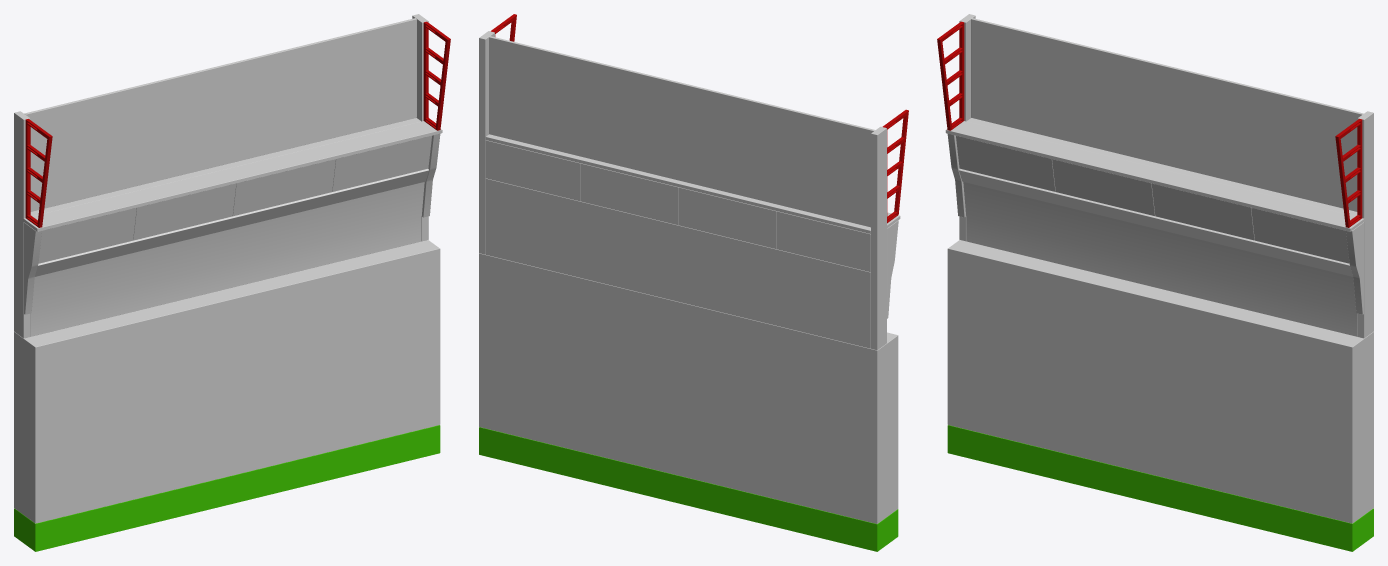
Rendered from WallBench02.fbx.
The picture shows the model from 3 angles, left to right: view 1: azimuth 30°, elevation 25°; view 2: azimuth 150°, elevation 25°; view 3: azimuth 330°, elevation 25°; orthographic projection.
Visible parts, largest first — view 1: WallBench02; view 2: WallBench02; view 3: WallBench02.
Boxes of the visible parts, x1=… form: WallBench02: x1=14, y1=14, x2=450, y2=551; WallBench02: x1=479, y1=14, x2=908, y2=551; WallBench02: x1=937, y1=14, x2=1373, y2=551.
Size of the model in its own units: 150 by 21.69 by 150.
